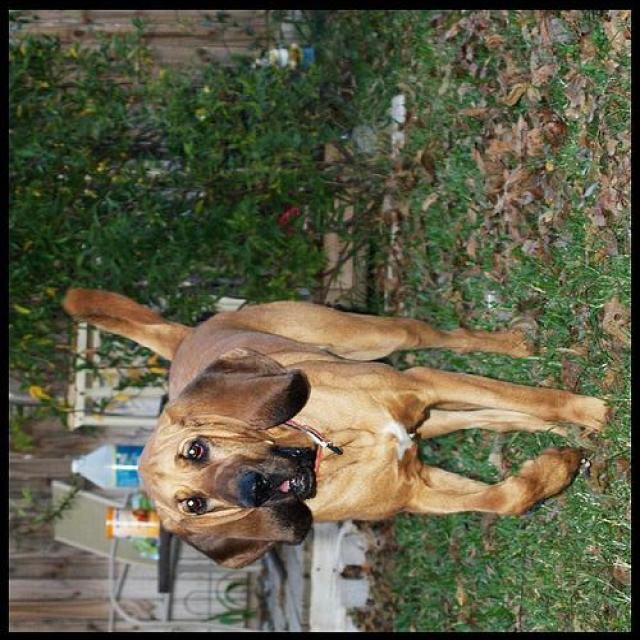bloodhound: (60, 288, 609, 572)
